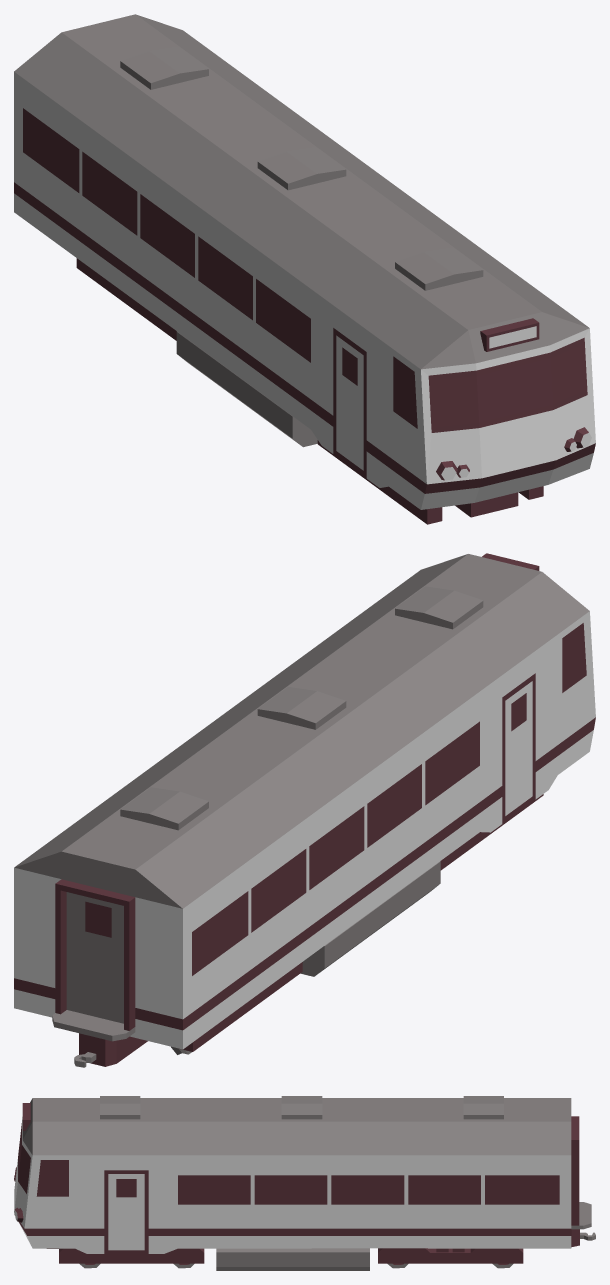
The model's file is train-passenger.fbx.
3 renders of one model, top to bottom at view 1: azimuth 30°, elevation 25°; view 2: azimuth 150°, elevation 25°; view 3: azimuth 270°, elevation 25°, orthographic. The views are drawn at different scales.
Parts seen in each view (by area): view 1: train-passenger-base, train-passenger-base-wheel-frame_F, train-passenger-base-wheel-frame_B; view 2: train-passenger-base, train-passenger-base-wheel-frame_B; view 3: train-passenger-base, train-passenger-base-wheel-frame_B, train-passenger-base-wheel-frame_F.
Boxes of the visible parts, x1=… form: train-passenger-base: x1=14, y1=14, x2=595, y2=517; train-passenger-base-wheel-frame_F: x1=317, y1=440, x2=543, y2=524; train-passenger-base-wheel-frame_B: x1=76, y1=258, x2=176, y2=340; train-passenger-base: x1=14, y1=553, x2=595, y2=1067; train-passenger-base-wheel-frame_B: x1=178, y1=962, x2=302, y2=1051; train-passenger-base: x1=14, y1=1096, x2=595, y2=1270; train-passenger-base-wheel-frame_B: x1=378, y1=1248, x2=523, y2=1263; train-passenger-base-wheel-frame_F: x1=59, y1=1248, x2=204, y2=1263.
Size of the model in its own units: 3.2 by 4.17 by 14.41.
